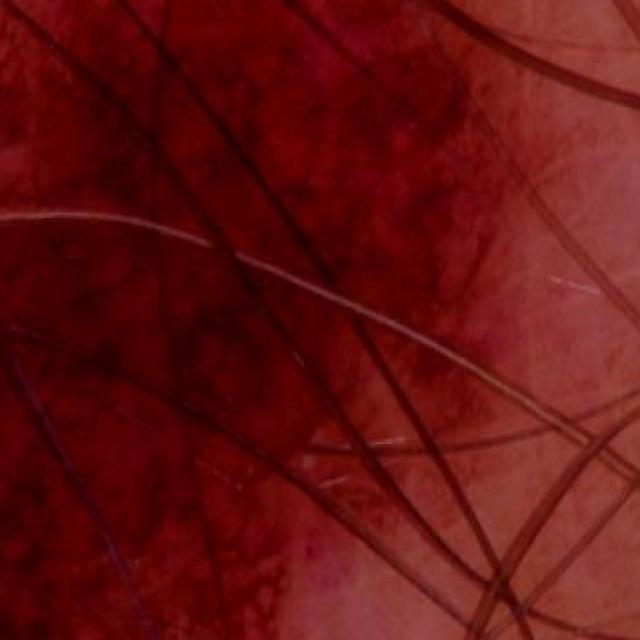NV: (0, 0, 487, 640)
